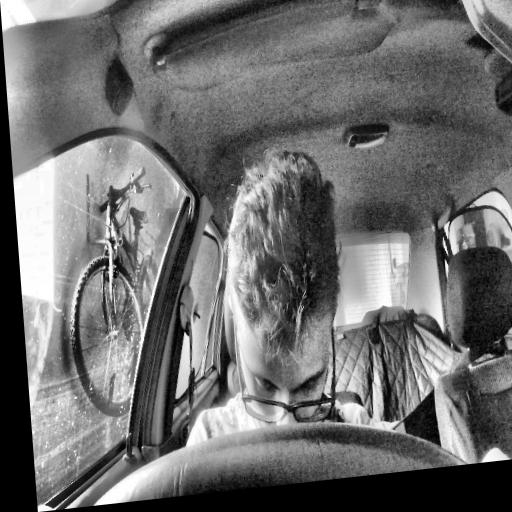drowsy: (215, 139, 355, 439)
